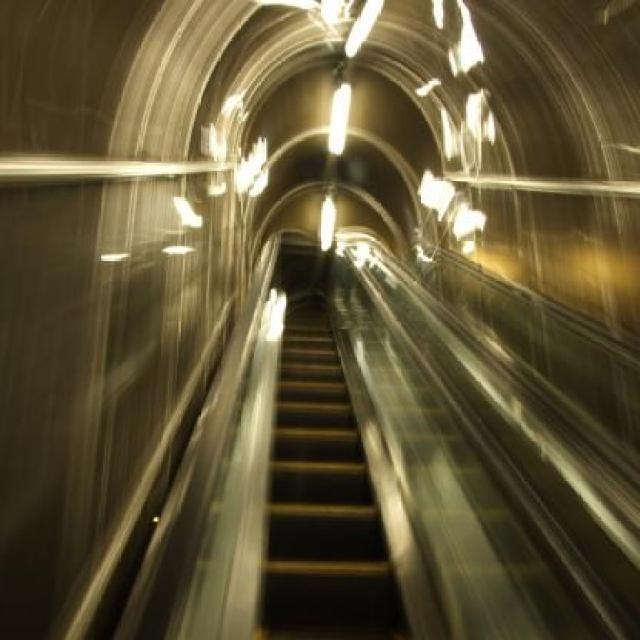stair: (236, 244, 455, 640)
